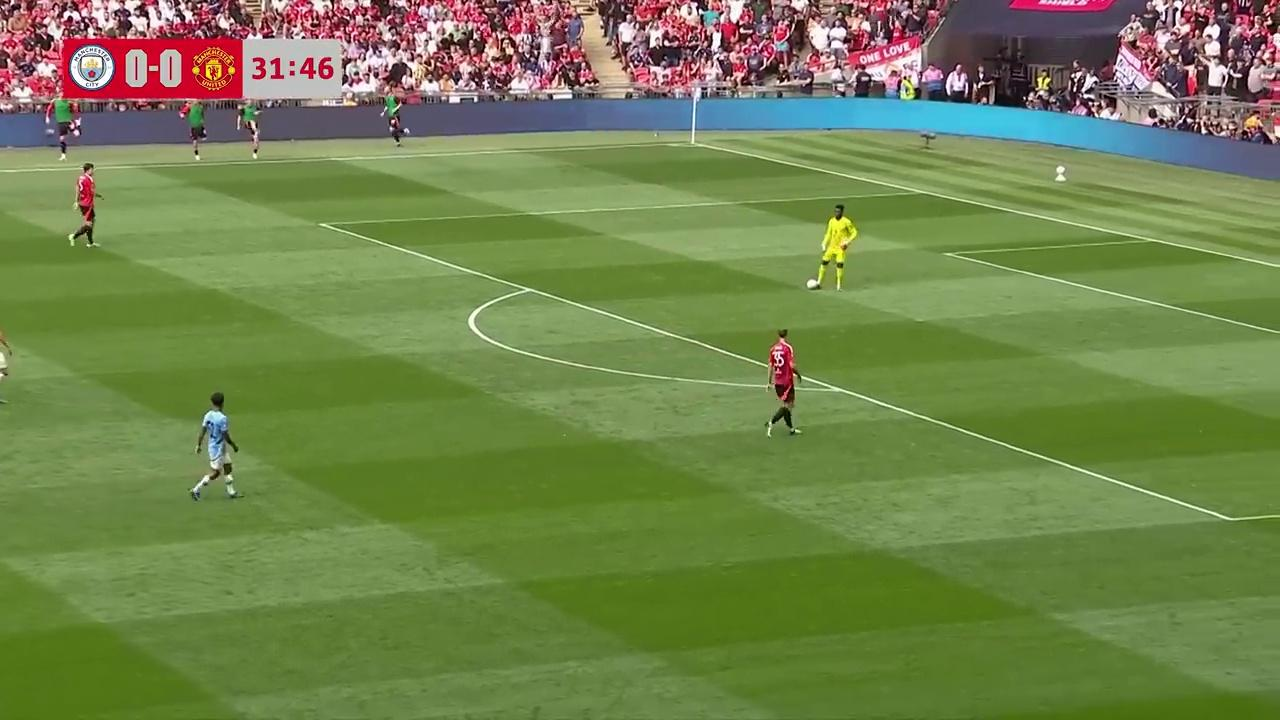ball: (804, 275, 819, 291)
player: (189, 396, 241, 502), (810, 204, 857, 291), (765, 337, 801, 437), (71, 163, 102, 248), (0, 319, 13, 407)
